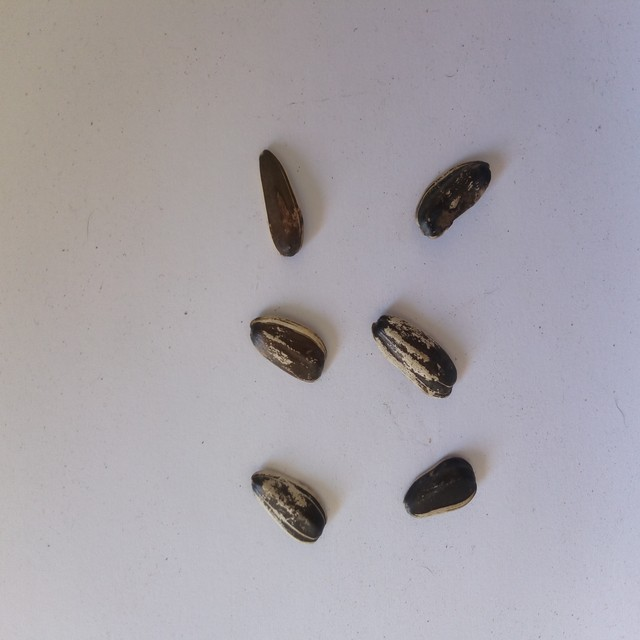girasol: (366, 311, 460, 403), (410, 151, 494, 244), (250, 144, 315, 263), (243, 463, 331, 548), (241, 310, 330, 385), (400, 447, 481, 528)
